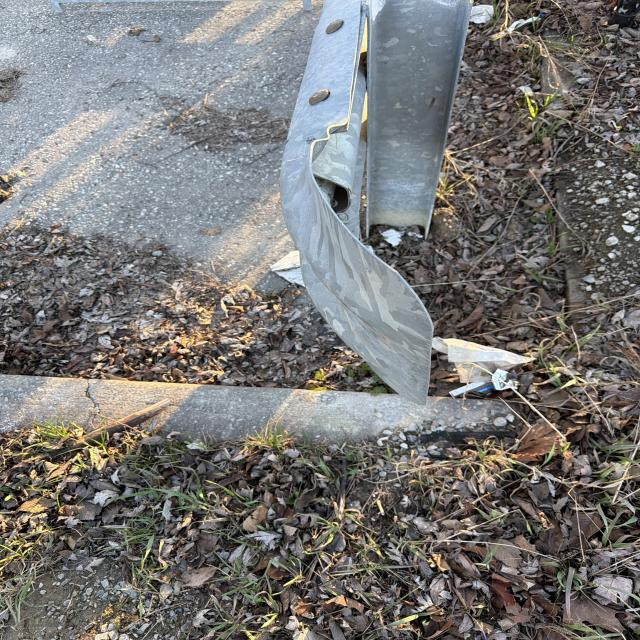Guard rail: (278, 3, 462, 375)
